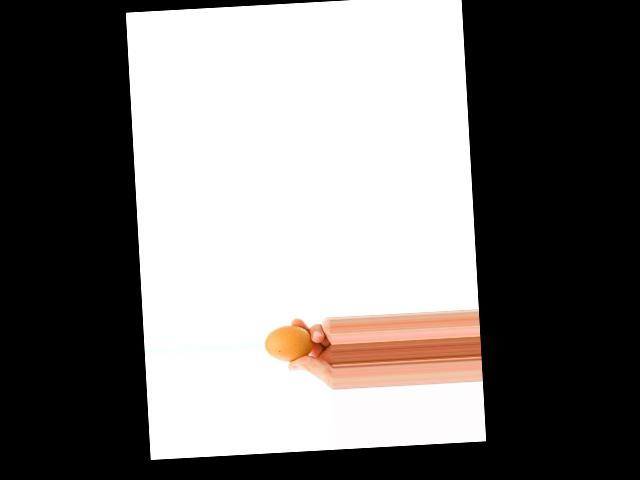egg: (263, 323, 313, 362)
